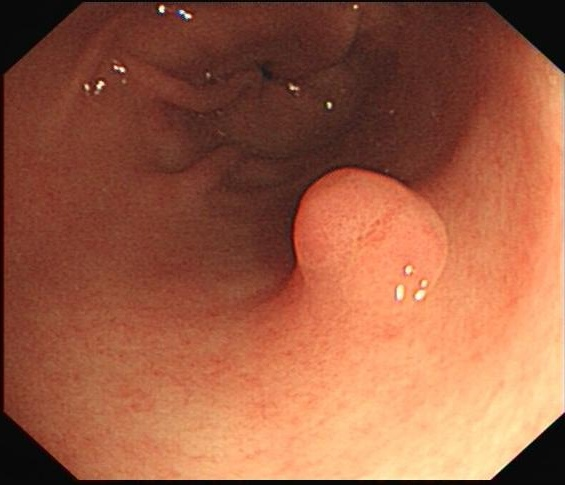Polyp: (288, 155, 454, 330)
